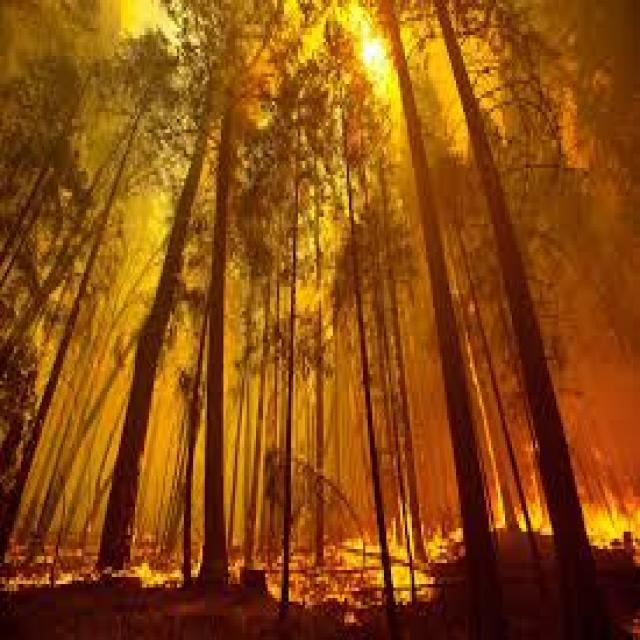Fire: (298, 460, 640, 619), (0, 468, 282, 621)
